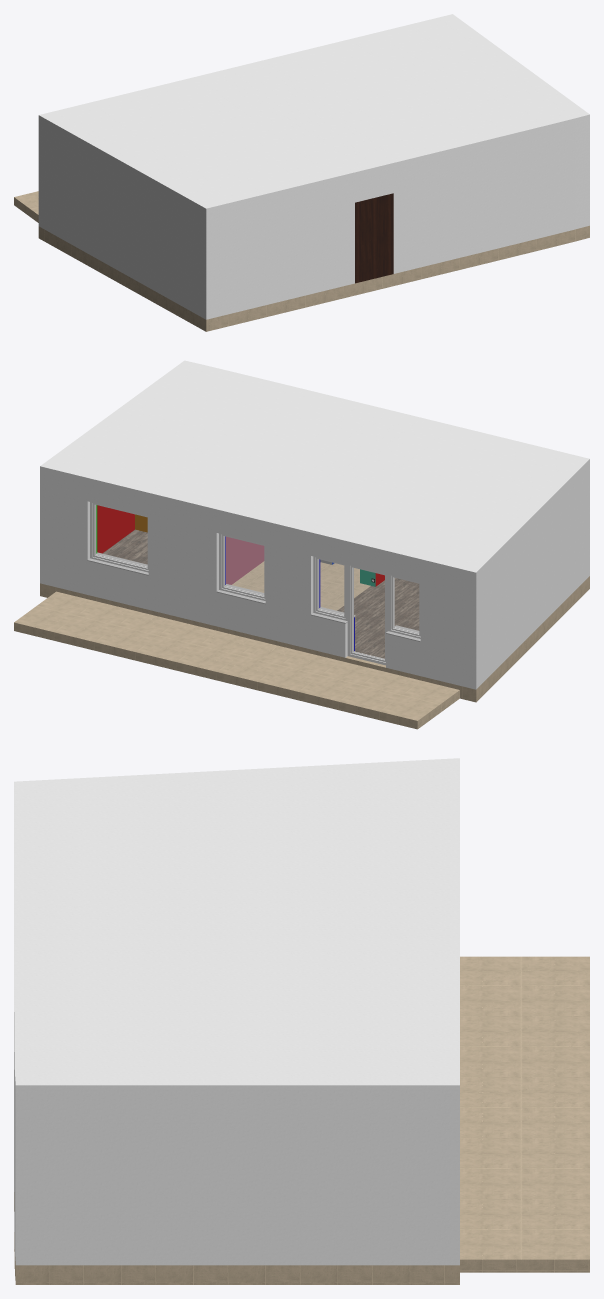
Rendered from Ablewicza 15.obj.
The picture shows the model from 3 angles, top to bottom: view 1: azimuth 30°, elevation 25°; view 2: azimuth 150°, elevation 25°; view 3: azimuth 270°, elevation 25°; orthographic projection. The views are drawn at different scales.
Visible parts, largest first — view 1: Plane, Plane.001; view 2: Plane, Plane.003, Plane.002, Plane.030; view 3: Plane.
Part boxes in pixels (left/top/right/bottom): Plane: left=14, top=14, right=589, bottom=331; Plane.001: left=355, top=193, right=393, bottom=283; Plane: left=14, top=360, right=589, bottom=729; Plane.003: left=90, top=502, right=420, bottom=665; Plane.002: left=219, top=533, right=265, bottom=600; Plane.030: left=87, top=552, right=420, bottom=641; Plane: left=14, top=758, right=589, bottom=1284.
Bounding box in the file's own units: 10.72 × 3.05 × 7.98.
